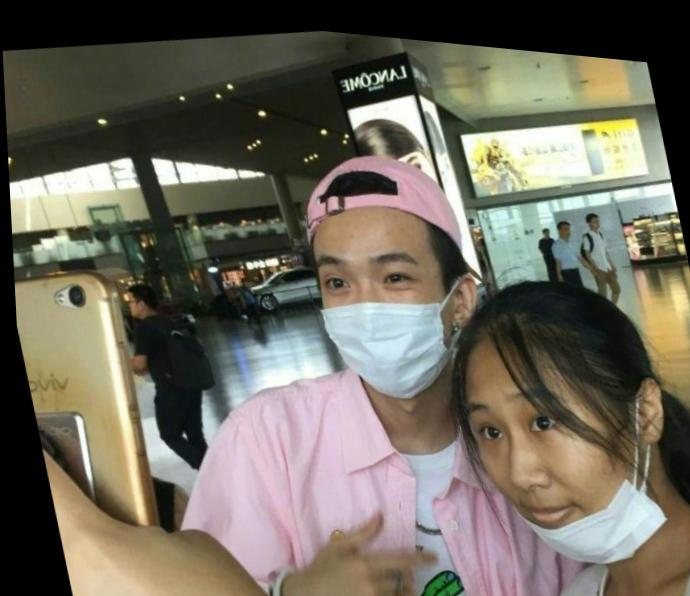OK: (304, 216, 465, 409)
WRONG: (455, 340, 651, 571)
